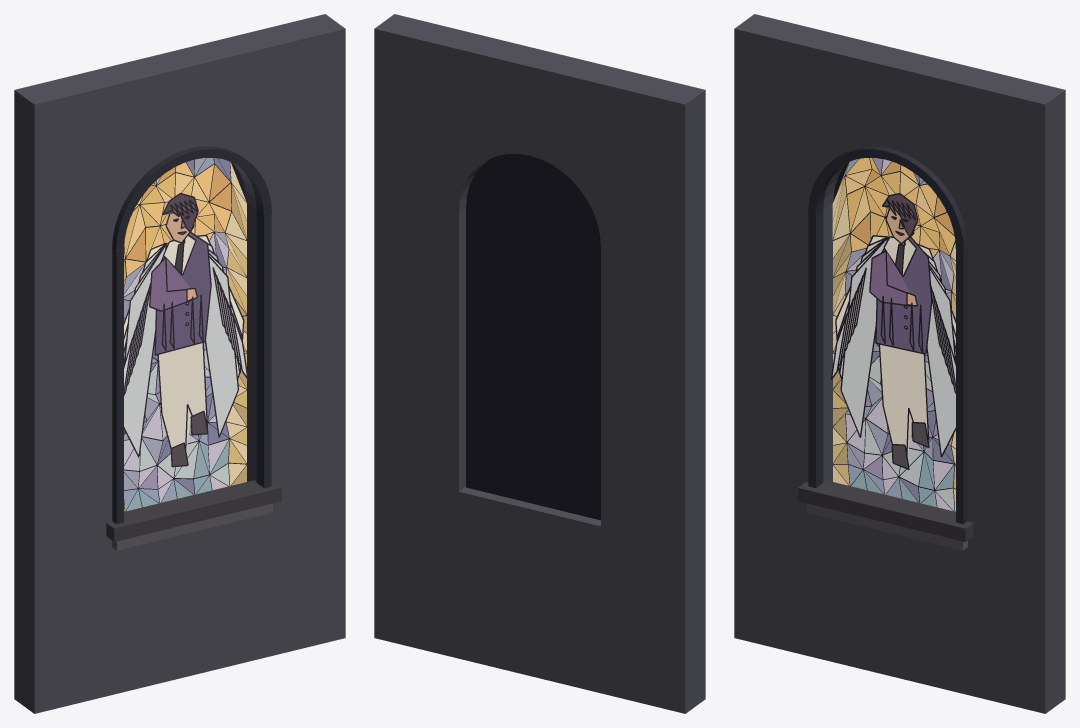
Rendered from VioletBay.glb.
3 views of the same model, side by side, from view 1: azimuth 30°, elevation 25°; view 2: azimuth 150°, elevation 25°; view 3: azimuth 330°, elevation 25° (orthographic).
Visible parts, largest first — view 1: VioletBay; view 2: VioletBay; view 3: VioletBay.
Part boxes in pixels (box(x1,y1,x2,y2)): VioletBay: box(14, 14, 345, 713); VioletBay: box(374, 14, 705, 713); VioletBay: box(734, 14, 1065, 713).
Size of the model in its own units: 2.67 by 5 by 0.42.
